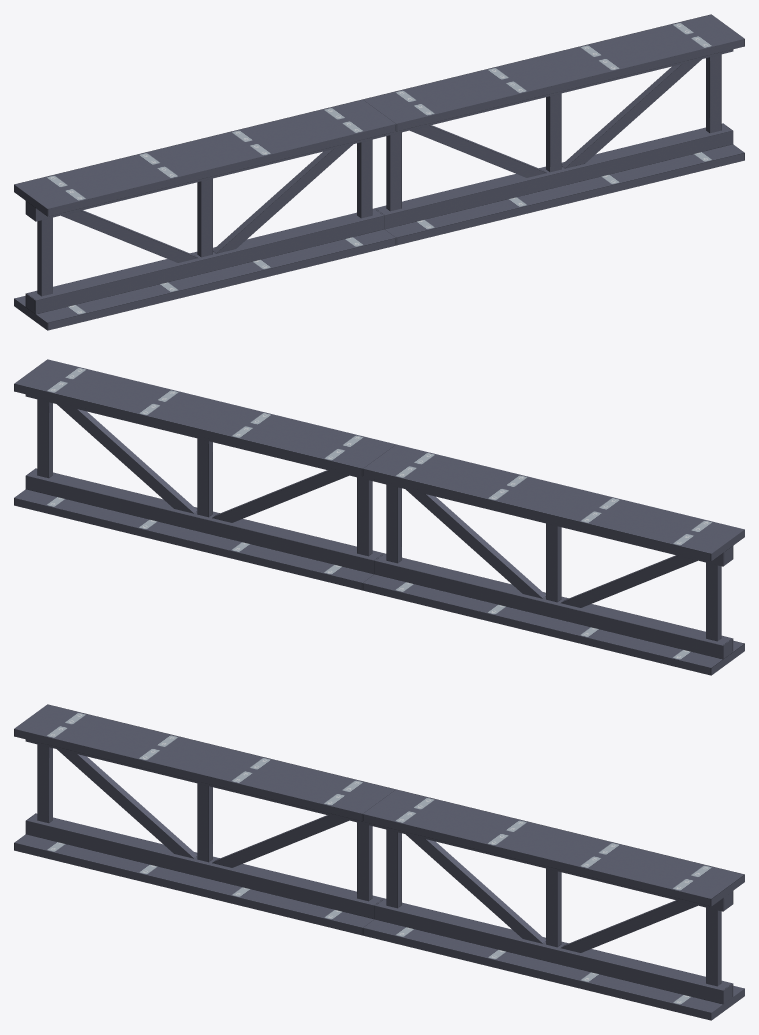
Rendered from Meta_Beam_01.FBX.
The picture shows the model from 3 angles, top to bottom: view 1: azimuth 30°, elevation 25°; view 2: azimuth 150°, elevation 25°; view 3: azimuth 330°, elevation 25°; orthographic projection.
Parts seen in each view (by area): view 1: Meta_Beam_01; view 2: Meta_Beam_01; view 3: Meta_Beam_01.
Part boxes in pixels (left/top/right/bottom): Meta_Beam_01: left=14, top=14, right=744, bottom=330; Meta_Beam_01: left=14, top=359, right=744, bottom=675; Meta_Beam_01: left=14, top=704, right=744, bottom=1020.
Size of the model in its own units: 6 by 1 by 0.5.
